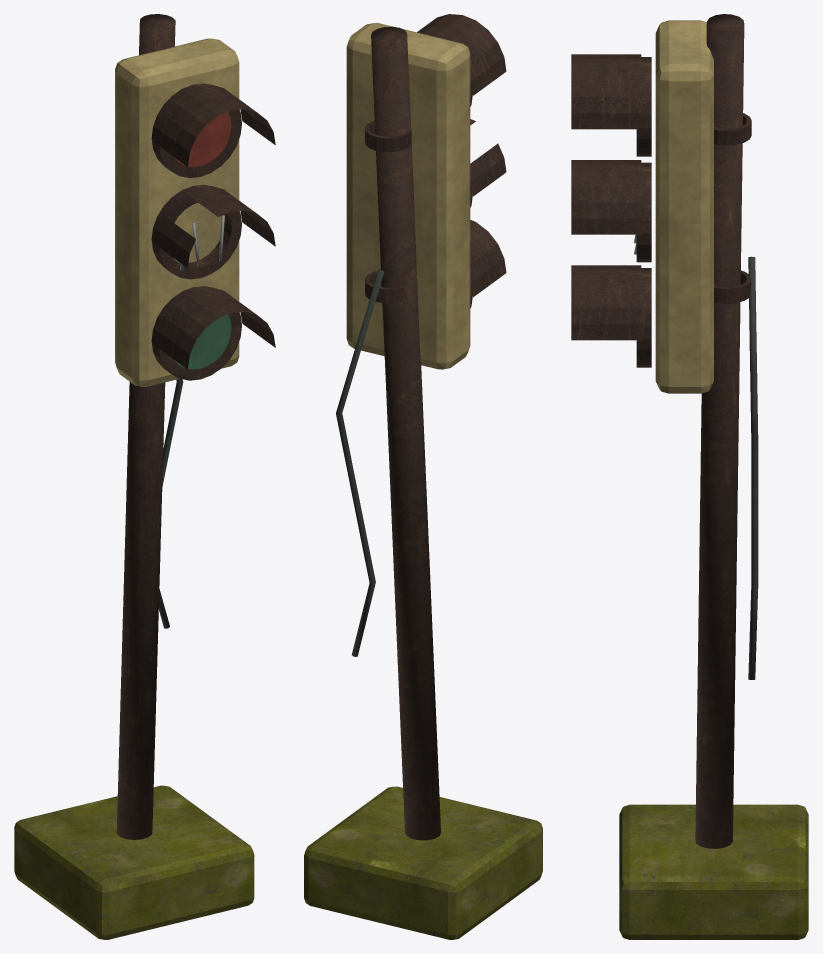
File: lod0_NOT_APPROVED.glb
3 renders of one model, left to right at view 1: azimuth 30°, elevation 25°; view 2: azimuth 150°, elevation 25°; view 3: azimuth 270°, elevation 25°, orthographic. The views are drawn at different scales.
Parts seen in each view (by area): view 1: f3_oxidized_iron_surface, f3_damp_concrete_surface, f3_faded_safety_ochre_surface, f3_dead_signal_3.08_surface, f3_dead_signal_2.28_surface, f3_aged_rubber_surface; view 2: f3_oxidized_iron_surface, f3_faded_safety_ochre_surface, f3_damp_concrete_surface, f3_aged_rubber_surface; view 3: f3_oxidized_iron_surface, f3_damp_concrete_surface, f3_faded_safety_ochre_surface, f3_aged_rubber_surface.
Part boxes in pixels (x1,y1,x2,y2): f3_oxidized_iron_surface: (116, 14, 275, 839); f3_damp_concrete_surface: (14, 785, 254, 939); f3_faded_safety_ochre_surface: (115, 38, 239, 386); f3_dead_signal_3.08_surface: (174, 112, 231, 166); f3_dead_signal_2.28_surface: (174, 314, 231, 369); f3_aged_rubber_surface: (159, 379, 183, 628); f3_oxidized_iron_surface: (365, 14, 506, 840); f3_faded_safety_ochre_surface: (346, 23, 470, 369); f3_damp_concrete_surface: (304, 786, 542, 939); f3_aged_rubber_surface: (336, 269, 384, 656); f3_oxidized_iron_surface: (571, 14, 751, 848); f3_damp_concrete_surface: (619, 804, 808, 939); f3_faded_safety_ochre_surface: (655, 20, 713, 393); f3_aged_rubber_surface: (748, 256, 758, 679).
Size of the model in its own units: 0.665 by 3.4 by 0.815.
Materials: 8 (8 with a texture image).
